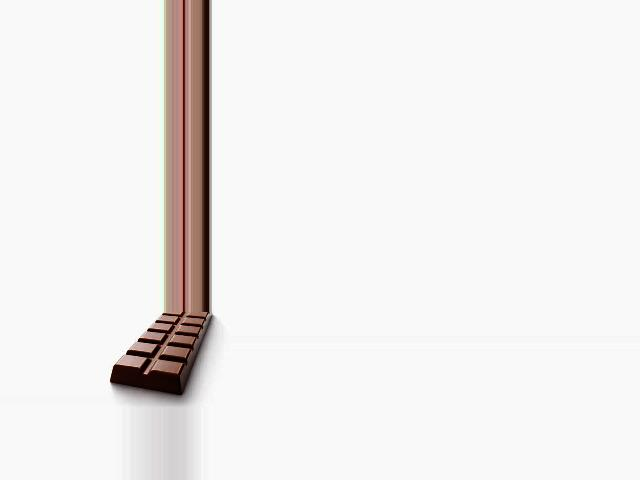chocolate: (109, 312, 218, 397)
